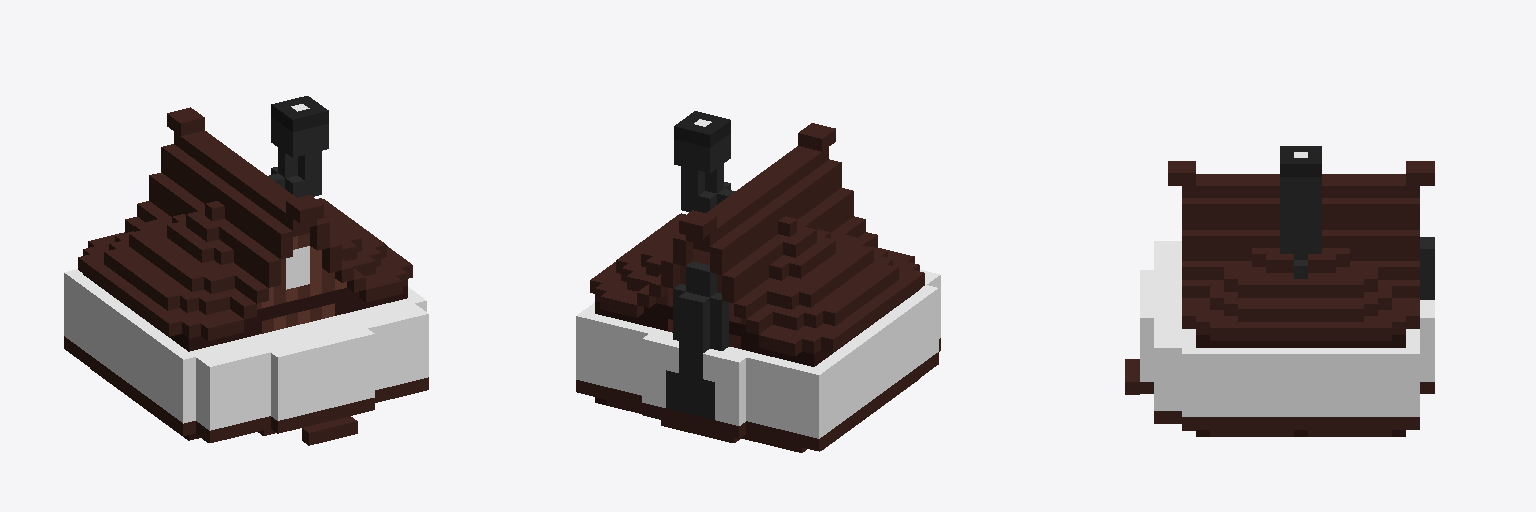
The picture shows the model from 3 angles: view 1: azimuth 30°, elevation 25°; view 2: azimuth 150°, elevation 25°; view 3: azimuth 270°, elevation 25°; orthographic projection.
Parts seen in each view (by area): view 1: object 1; view 2: object 1; view 3: object 1.
Boxes of the visible parts, <box> form: object 1: <box>64,96,428,445</box>; object 1: <box>576,111,940,452</box>; object 1: <box>1125,146,1434,436</box>.
Bounding box in the file's own units: 2 × 2 × 2.2.
Materials: 1 (1 with a texture image).